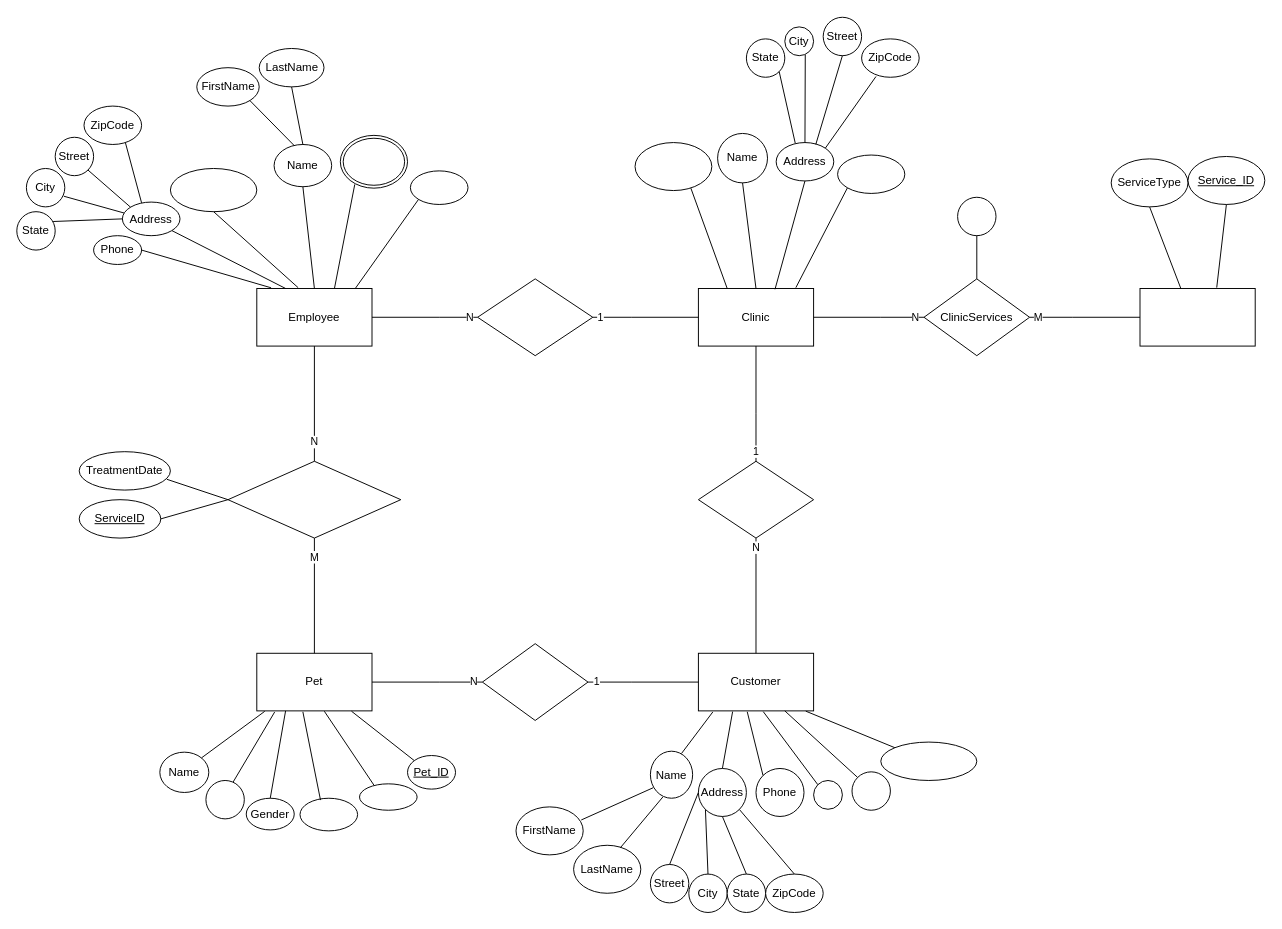
The diagram is 1282 pixels wide and 929 high, and some of its shapes have lost their labels. The shapes that lost their labels are listed below. From the top down, each one's centre as x and y in pixels, then its label:
At [373,161]: "Education".
At [673,166]: "Clinic_ID".
At [871,173]: "Telephone".
At [213,190]: "Employee_ID".
At [438,187]: "HireDate".
At [976,216]: "Price".
At [535,317]: "ClinicEmployees".
At [1197,317]: "Service".
At [314,499]: "EmployeePetTreatment".
At [755,499]: "ClinicCustomers".
At [534,681]: "CustomerPets".
At [928,760]: "Customer_ID".
At [224,799]: "Breed".
At [388,796]: "PetType".
At [827,794]: "Fax".
At [870,790]: "Type".
At [328,814]: "Birthdate".
